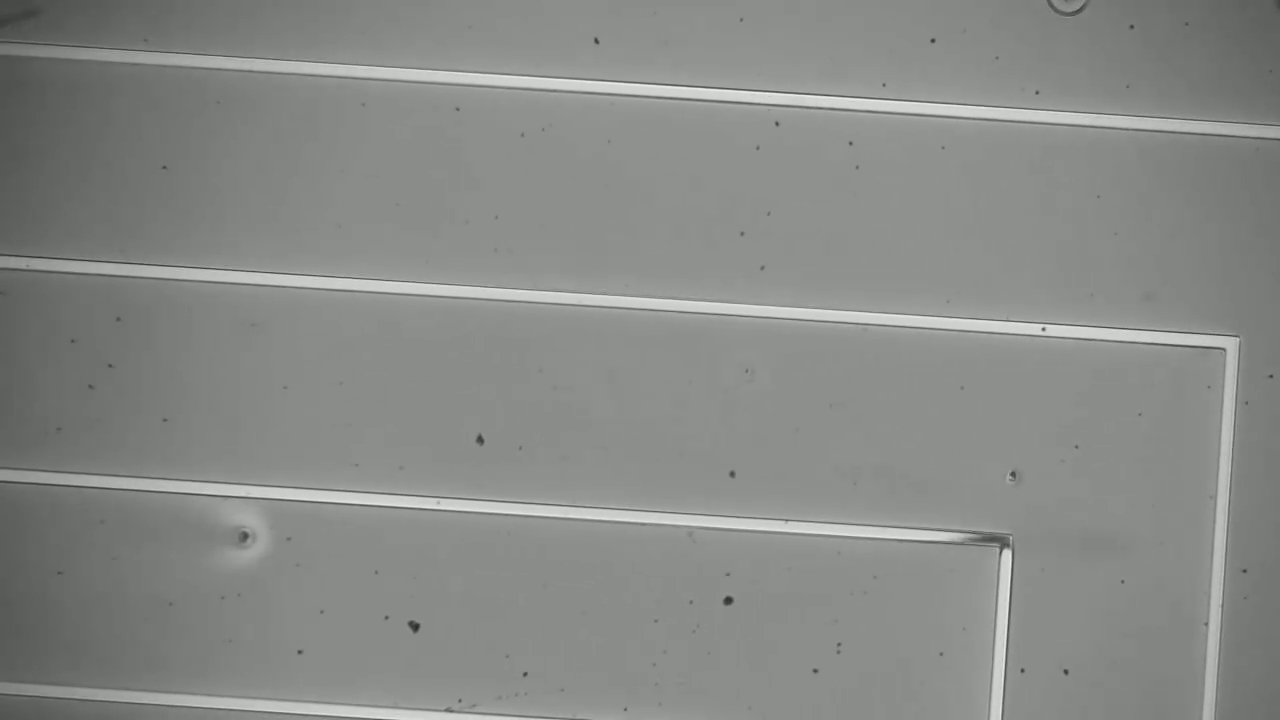gray_line: (940, 513, 1026, 560)
